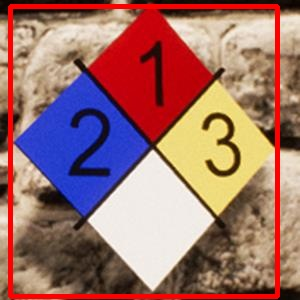nfpa: (10, 6, 277, 296)
